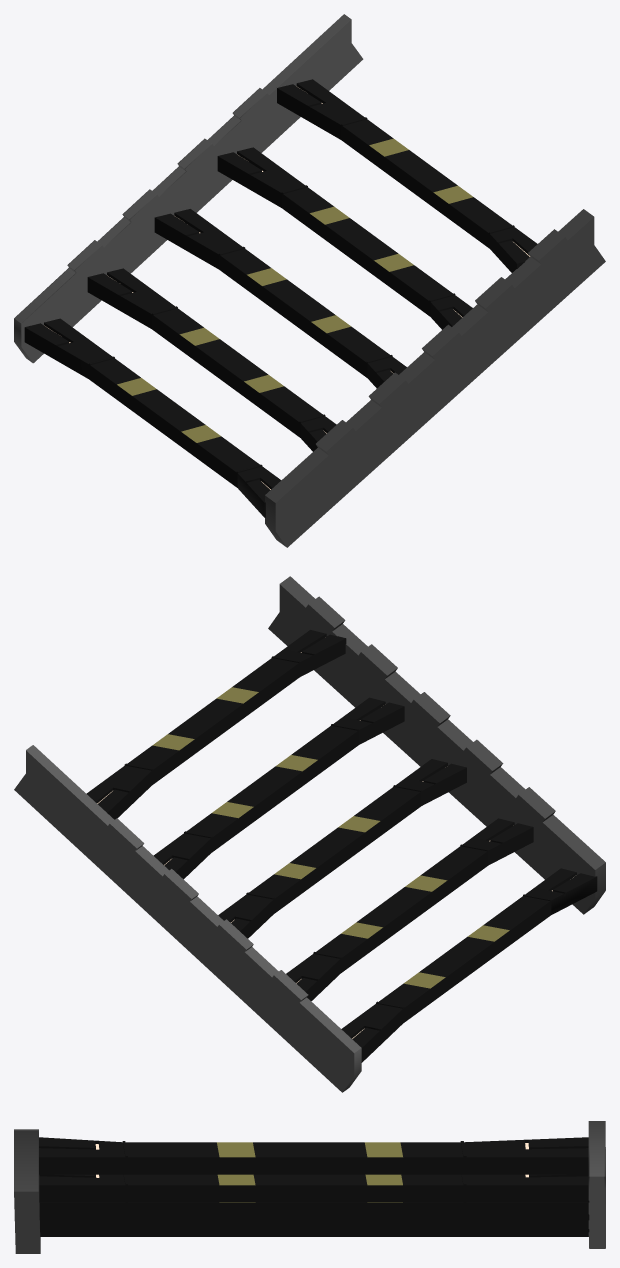
Rendered from STAIRES.fbx.
3 renders of one model, top to bottom at view 1: azimuth 30°, elevation 25°; view 2: azimuth 150°, elevation 25°; view 3: azimuth 270°, elevation 25°, orthographic. The views are drawn at different scales.
Parts seen in each view (by area): view 1: Cube, Cube.005, Cube.004, Cube.003, Cube.002, Cube.001; view 2: Cube, Cube.005, Cube.004, Cube.003, Cube.001, Cube.002; view 3: Cube.004, Cube.003, Cube.002, Cube.001, Cube, Cube.005.
Boxes of the visible parts, x1,y1,x2,y2 form: Cube: (14,14,363,517); Cube.005: (265,209,605,547); Cube.004: (277,79,537,272); Cube.003: (217,147,472,329); Cube.002: (154,209,406,388); Cube.001: (87,268,336,451); Cube: (14,745,597,1092); Cube.005: (268,576,605,914); Cube.004: (86,630,346,819); Cube.003: (153,697,404,879); Cube.001: (286,818,533,1001); Cube.002: (218,759,466,938); Cube.004: (39,1137,588,1174); Cube.003: (39,1174,589,1202); Cube.002: (39,1202,589,1220); Cube.001: (40,1220,589,1232); Cube: (40,1121,605,1248); Cube.005: (14,1129,40,1253).
Size of the model in its own units: 719 by 540 by 939.
